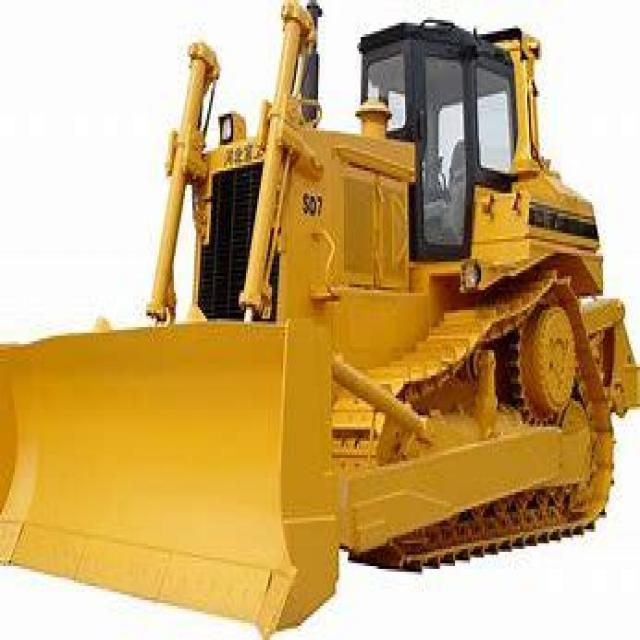Bulldozer: (4, 6, 632, 637)
